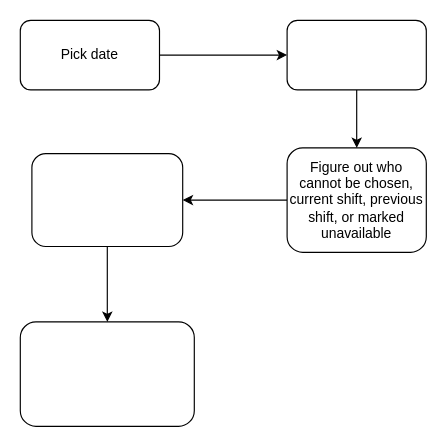
Image size: 447x447. Some labels were removed from this diagram. Here are the shapes that lost their labels. From the top down, the centre of each, then its label:
point 356,54: Get all people
point 107,199: Remove those people from the whole selection
